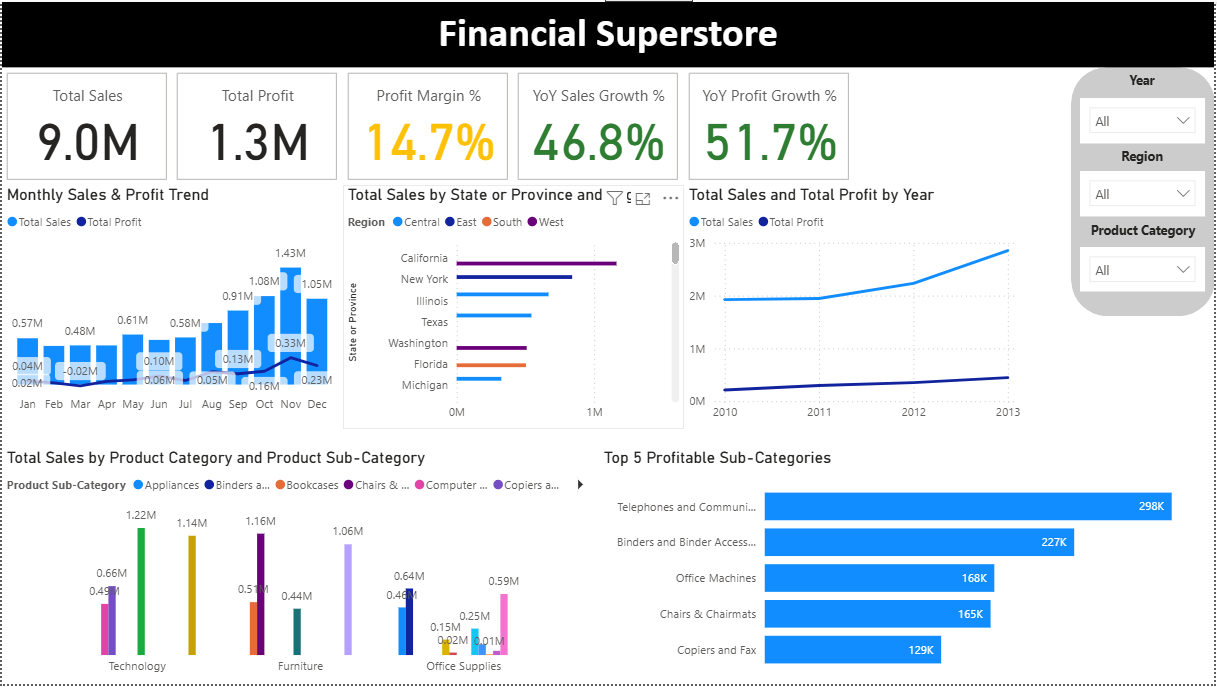

The page's visual inventory and layout, read from the dashboard file:
{"tool":"powerbi","page":{"name":"Summary","canvas":[1280,720],"ordinal":0},"visuals":[{"type":"shape","box":[1128,68.7,152,263],"z":0},{"type":"slicer","fields":{"Values":["DateTable.Year"]},"box":[1138.3,100.8,131.5,48.2],"z":1000},{"type":"cardVisual","fields":{"Data":["Orders.Total Sales"]},"box":[0,69.4,179.9,123.4],"z":2000},{"type":"cardVisual","fields":{"Data":["Orders.Total Profit"]},"box":[179.9,69.4,179.9,123.4],"z":3000},{"type":"cardVisual","fields":{"Data":["Orders.Profit Margin %"]},"box":[359.8,69.4,179.9,123.4],"z":4000},{"type":"cardVisual","fields":{"Data":["Orders.YoY Sales Growth %"]},"box":[539.8,69.4,179.9,123.4],"z":5000},{"type":"cardVisual","fields":{"Data":["Orders.YoY Profit Growth %"]},"box":[719.7,69.4,179.9,123.4],"z":6000},{"type":"lineChart","fields":{"Category":["DateTable.Year"],"Y":["Orders.Total Sales","Orders.Total Profit"]},"box":[719.7,192.8,359.8,258.3],"z":7000},{"type":"clusteredBarChart","fields":{"Category":["Orders.State or Province"],"Y":["Orders.Total Sales"],"Series":["Orders.Region"]},"box":[359.8,192.8,359.8,258.3],"z":8000},{"type":"clusteredColumnChart","fields":{"Category":["Orders.Product Category"],"Y":["Orders.Total Sales"],"Series":["Orders.Product Sub-Category"]},"box":[0,471.1,630.4,248.6],"z":9000},{"type":"lineClusteredColumnComboChart","title":"Monthly Sales & Profit Trend","fields":{"Y":["Orders.Total Sales"],"Y2":["Orders.Total Profit"],"Category":["DateTable.Month"]},"box":[0,192.8,359.8,249.3],"z":10000},{"type":"slicer","fields":{"Values":["Orders.Region"]},"box":[1138.3,178.3,131.5,48.2],"z":11000},{"type":"slicer","fields":{"Values":["Orders.Product Category"]},"box":[1138.3,258.6,131.5,46.8],"z":12000},{"type":"textbox","box":[1163.1,68.7,80.4,32.1],"z":13000},{"type":"textbox","box":[1163.1,149,80.4,32.1],"z":14000},{"type":"textbox","box":[1128,226.5,152,32.1],"z":15000},{"type":"textbox","box":[0,0,1280,69.4],"z":16000},{"type":"clusteredBarChart","title":"Top 5 Profitable Sub-Categories","fields":{"Category":["Orders.Product Sub-Category"],"Y":["Orders.Total Profit"]},"box":[630.4,471.1,649.6,248.6],"z":16001}]}

Visuals, with their boxes in screenshot pixels (x1, y1, x2, y2), scaled from the page's 1280x720 canvas onto the 1217x687 screenshot:
shape: (1072, 66, 1216, 316)
slicer - DateTable.Year: (1082, 96, 1207, 142)
cardVisual - Orders.Total Sales: (0, 66, 171, 184)
cardVisual - Orders.Total Profit: (171, 66, 342, 184)
cardVisual - Orders.Profit Margin %: (342, 66, 513, 184)
cardVisual - Orders.YoY Sales Growth %: (513, 66, 684, 184)
cardVisual - Orders.YoY Profit Growth %: (684, 66, 855, 184)
lineChart - DateTable.Year x Orders.Total Sales: (684, 184, 1026, 430)
clusteredBarChart - Orders.State or Province x Orders.Total Sales: (342, 184, 684, 430)
clusteredColumnChart - Orders.Product Category x Orders.Total Sales: (0, 450, 599, 686)
"Monthly Sales & Profit Trend" lineClusteredColumnComboChart: (0, 184, 342, 422)
slicer - Orders.Region: (1082, 170, 1207, 216)
slicer - Orders.Product Category: (1082, 247, 1207, 291)
textbox: (1106, 66, 1182, 96)
textbox: (1106, 142, 1182, 173)
textbox: (1072, 216, 1216, 247)
textbox: (0, 0, 1216, 66)
"Top 5 Profitable Sub-Categories" clusteredBarChart: (599, 450, 1216, 686)
